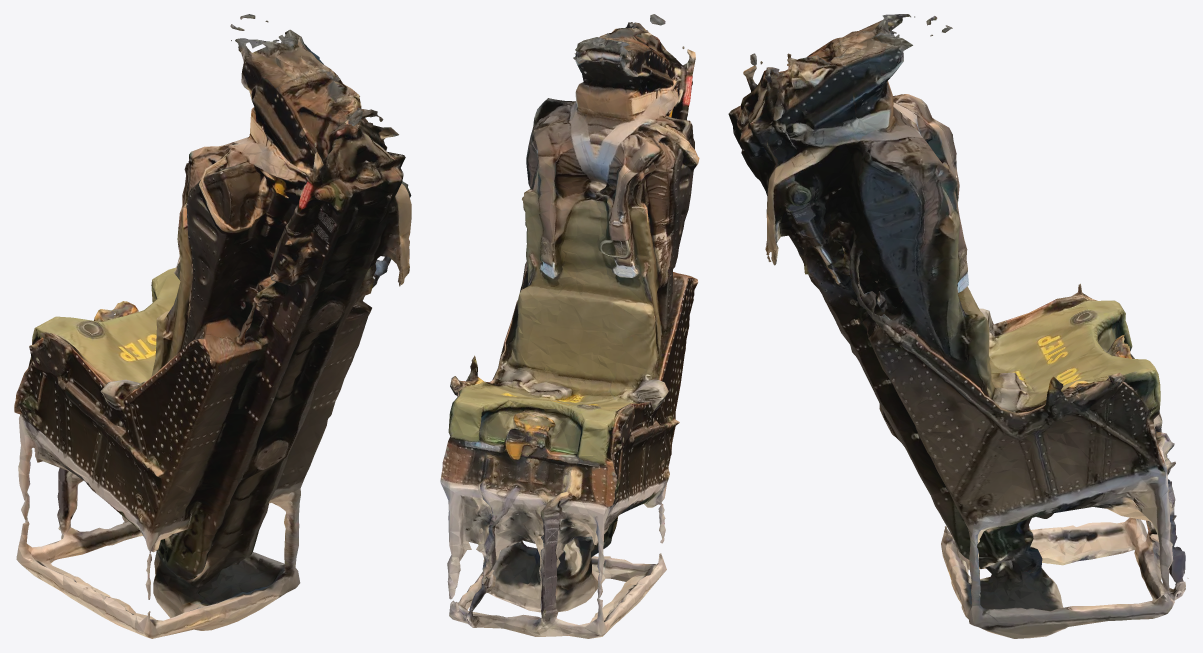
Rendered from seatmb.glb.
3 views of the same model, side by side, from view 1: azimuth 30°, elevation 25°; view 2: azimuth 150°, elevation 25°; view 3: azimuth 270°, elevation 25° (orthographic). The views are drawn at different scales.
Visible parts, largest first — view 1: Object_2; view 2: Object_2; view 3: Object_2.
Boxes of the visible parts, bbox=[...] form: Object_2: bbox=[14, 14, 411, 638]; Object_2: bbox=[440, 14, 699, 638]; Object_2: bbox=[728, 14, 1188, 638].
Size of the model in its own units: 0.783 by 2.01 by 1.38.
1 material, 1 textured.
